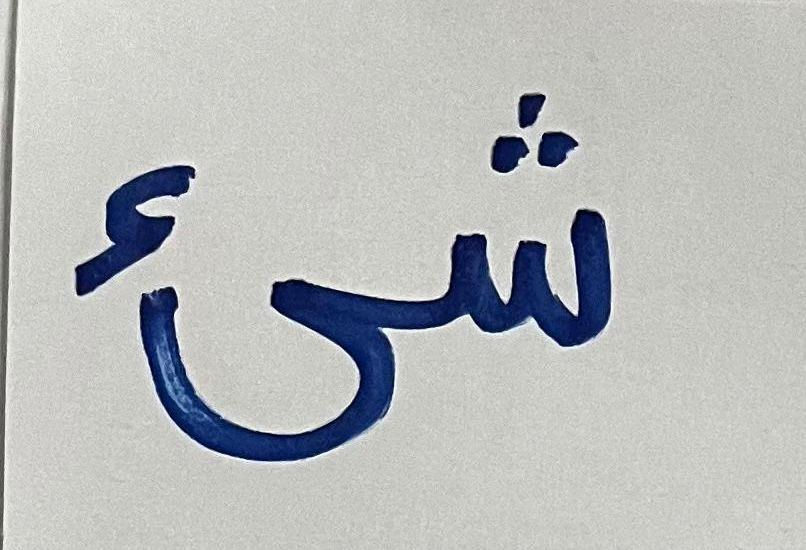hamza: (62, 138, 213, 263)
sheen: (432, 43, 650, 430)
yeh: (140, 269, 418, 515)
